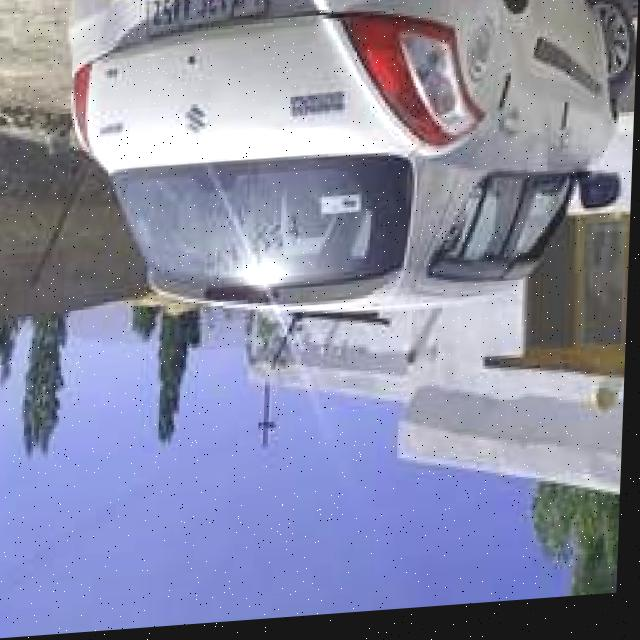plate: (144, 0, 273, 44)
